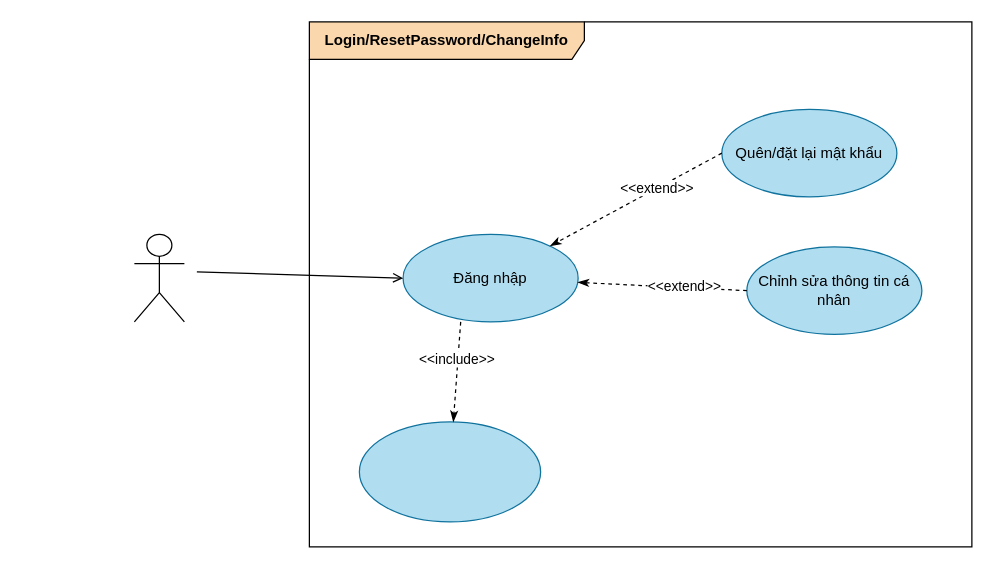
This 994x569 diagram has some shape labels left out. Here are the shapes that lost their labels. From the top down, the centre of each, then its label:
At (158,277): "Admin(Back Officer)/ Janitor and Collector".
At (449,471): "Authentication (Chứng thực bạn là ai?)".
